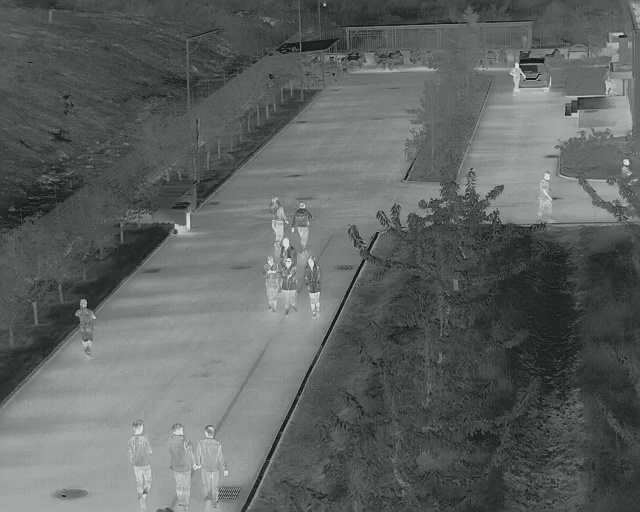person: (199, 427, 228, 505), (167, 423, 193, 509), (131, 420, 151, 506), (77, 300, 94, 357), (305, 257, 321, 316), (293, 203, 312, 251), (281, 261, 299, 311), (270, 196, 288, 242), (265, 256, 278, 311), (541, 173, 553, 222), (513, 62, 521, 93)
vehicle: (519, 57, 551, 91)
